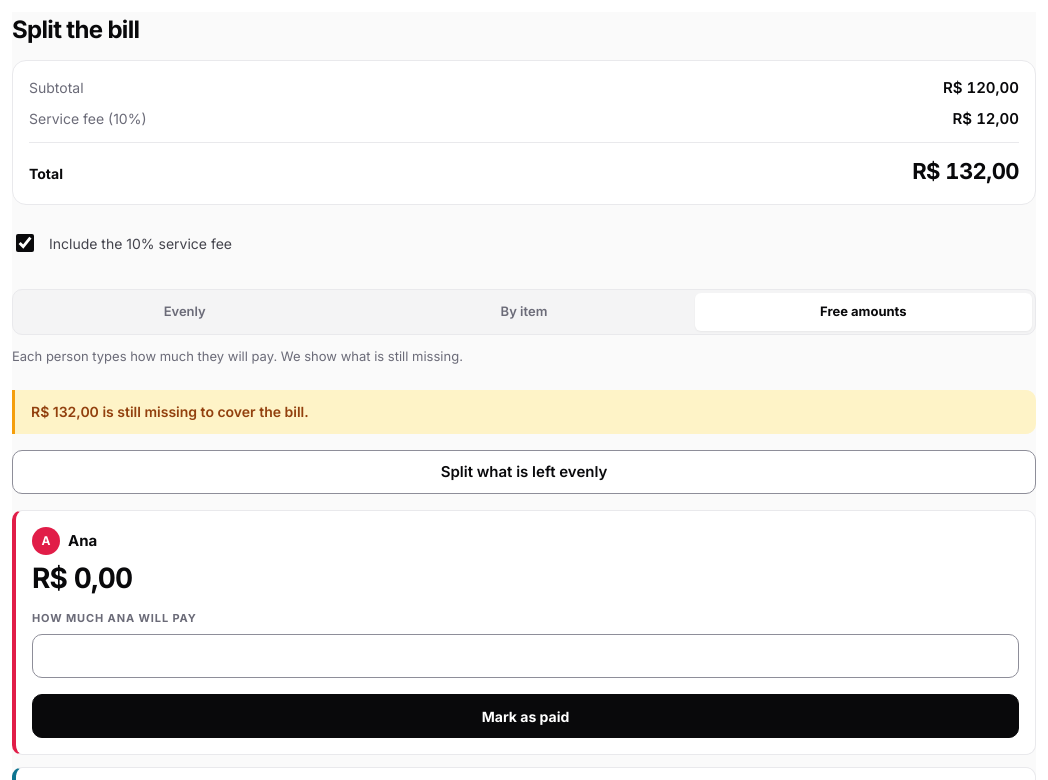
Test: BillPage › fills the custom amounts evenly on request
The width and height of the screenshot is (1048, 780).
Click the button "Split what is left evenly".
click(524, 472)  # box [12,450,1036,494]
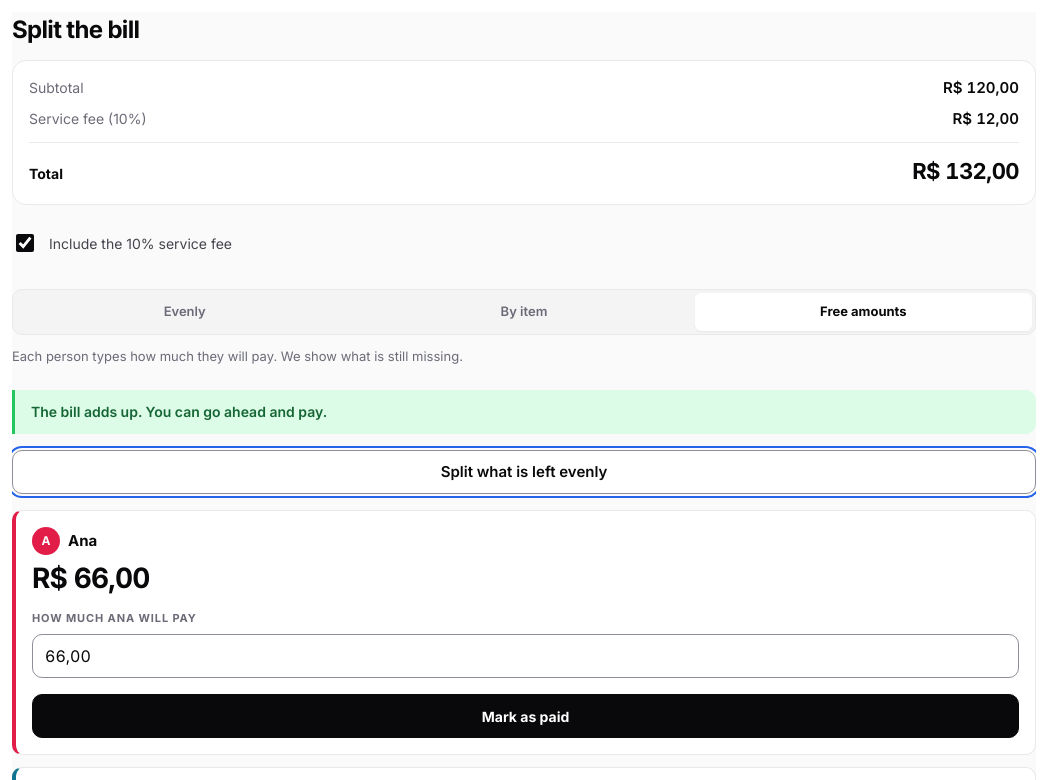
Expected: the list item "A Ana R$ 66,00 How much Ana will pay Mark as paid" is shown, [12,510,1036,755]
Expected: the text "The bill adds up. You can go ahead and pay." is shown, [12,390,1036,434]
